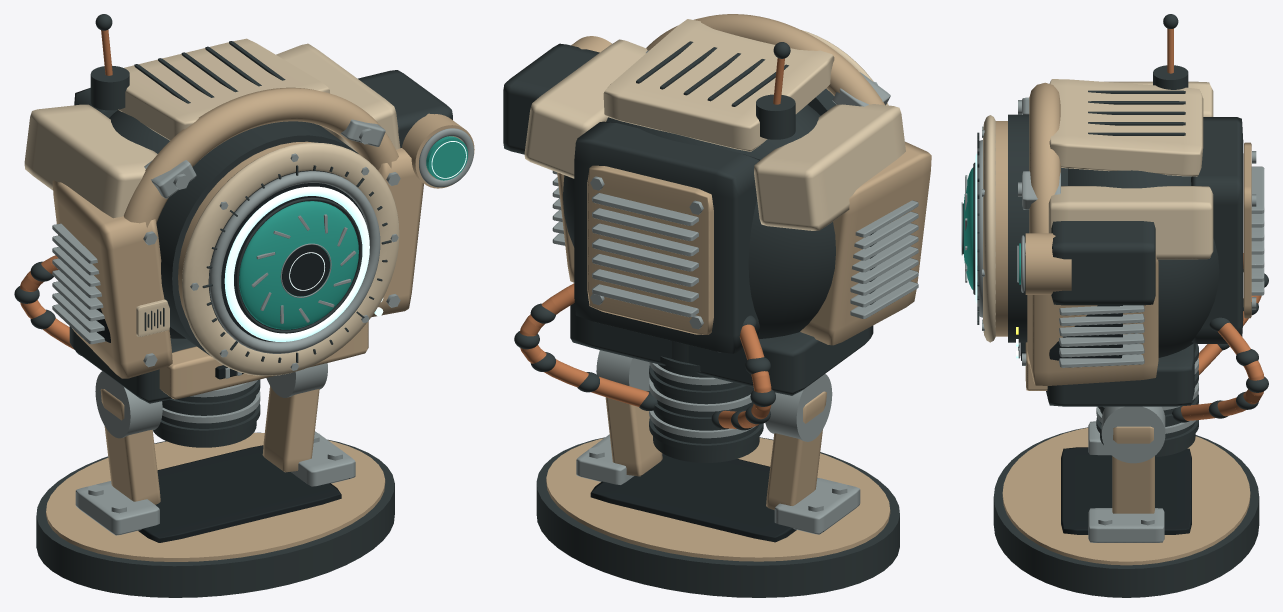
The model's file is specimen.glb.
The picture shows the model from 3 angles, left to right: view 1: azimuth 30°, elevation 25°; view 2: azimuth 150°, elevation 25°; view 3: azimuth 270°, elevation 25°; orthographic projection. The views are drawn at different scales.
Parts seen in each view (by area): view 1: Cheek armor (×2), Machined display base, Bezel raised rim, Titanium base lip, Temple armor (×2), Base inset, Interrupted armored brow, Optical glass dome, Crown bridge, Optic pressure housing, Gimbal support (×2), Optic steel retaining ring (+19 smaller); view 2: Temple armor (×2), Rear controller enclosure, Crown bridge, Machined display base, Titanium base lip, Inner pressure vessel, Rear service hatch, Base inset, Cheek armor (×2), Rear heat spreader (×7), Lower jaw chassis, Gimbal support (×2) (+9 smaller); view 3: Titanium base lip, Crown bridge, Machined display base, Temple armor (×2), Rangefinder mounting wing, Rear controller enclosure, Inner pressure vessel, Base inset, Cheek armor, Lower jaw chassis, Side cooling lamella (×6), Optic pressure housing (+16 smaller).
Part boxes in pixels (x1,y1,x2,y2): Cheek armor (×2): (52,148,423,378); Machined display base: (36,432,394,597); Bezel raised rim: (182,142,399,375); Titanium base lip: (46,432,385,561); Temple armor (×2): (24,43,400,218); Base inset: (138,445,341,542); Interrupted armored brow: (124,87,398,227); Optical glass dome: (239,201,358,329); Crown bridge: (118,38,329,140); Optic pressure housing: (156,121,358,356); Gimbal support (×2): (100,386,319,504); Optic steel retaining ring: (209,171,380,353); Temple armor (×2): (524,39,905,230); Rear controller enclosure: (574,121,759,353); Crown bridge: (603,19,834,151); Machined display base: (536,437,899,597); Titanium base lip: (546,438,890,561); Inner pressure vessel: (563,104,835,339); Rear service hatch: (587,165,713,334); Base inset: (590,453,796,542); Cheek armor (×2): (557,141,931,345); Rear heat spreader (×7): (592,193,698,317); Lower jaw chassis: (570,303,873,395); Gimbal support (×2): (605,391,826,510); Titanium base lip: (1002,428,1250,565); Crown bridge: (1049,79,1203,176); Machined display base: (993,427,1259,597); Temple armor (×2): (1048,81,1213,259); Rangefinder mounting wing: (1051,221,1155,305); Rear controller enclosure: (1191,117,1243,343); Inner pressure vessel: (1068,144,1219,357); Base inset: (1061,447,1191,534); Cheek armor: (1027,250,1158,385); Lower jaw chassis: (1046,343,1194,406); Side cooling lamella (×6): (1059,305,1144,367); Optic pressure housing: (1008,114,1067,342).
Size of the model in its own units: 2.17 by 2.94 by 1.75.
